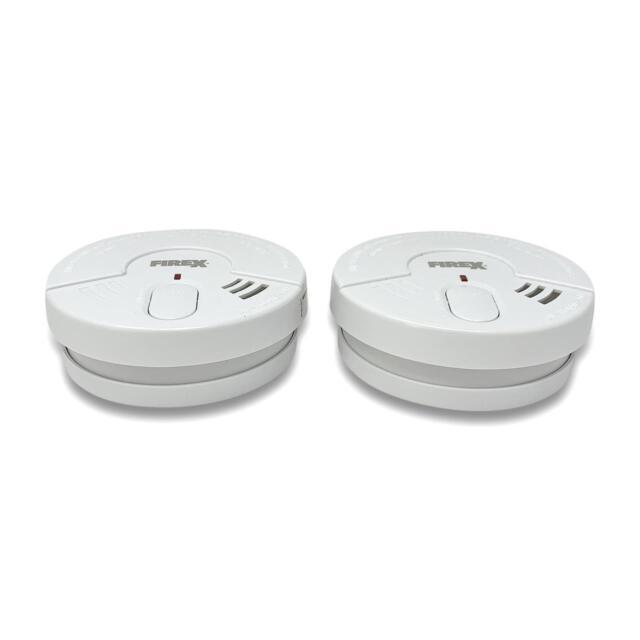Smoke-Detector: (325, 215, 599, 422), (18, 221, 306, 397)
